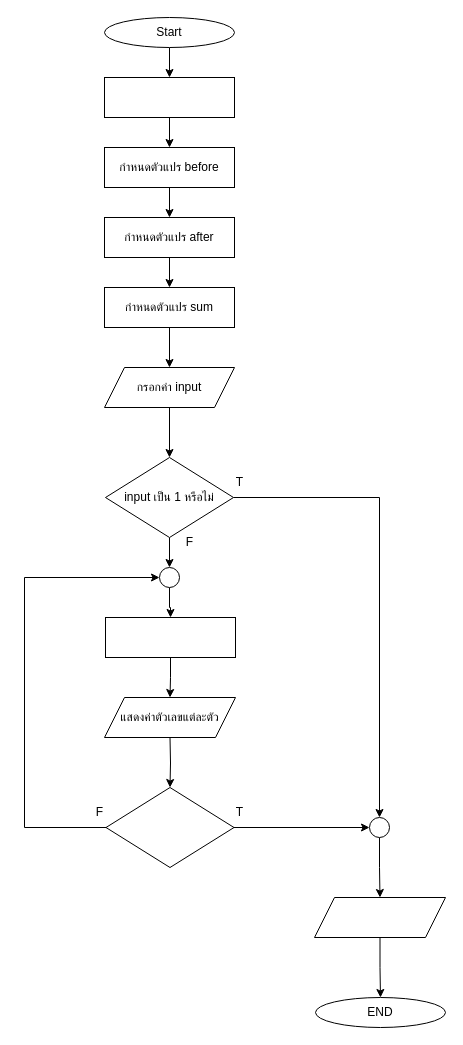
Image size: 463x1045. Some labels were removed from this diagram. The centre of each missing label's shape, as x and y in pixels:
กำหนดตัวแปร input: point (169, 97)
คำนวนหาค่า (อนุกรมฟีโบนัชชี): point (170, 637)
วนครบแล้วหรือไม่: point (169, 827)
แสดงค่าผลรวม: point (380, 917)
